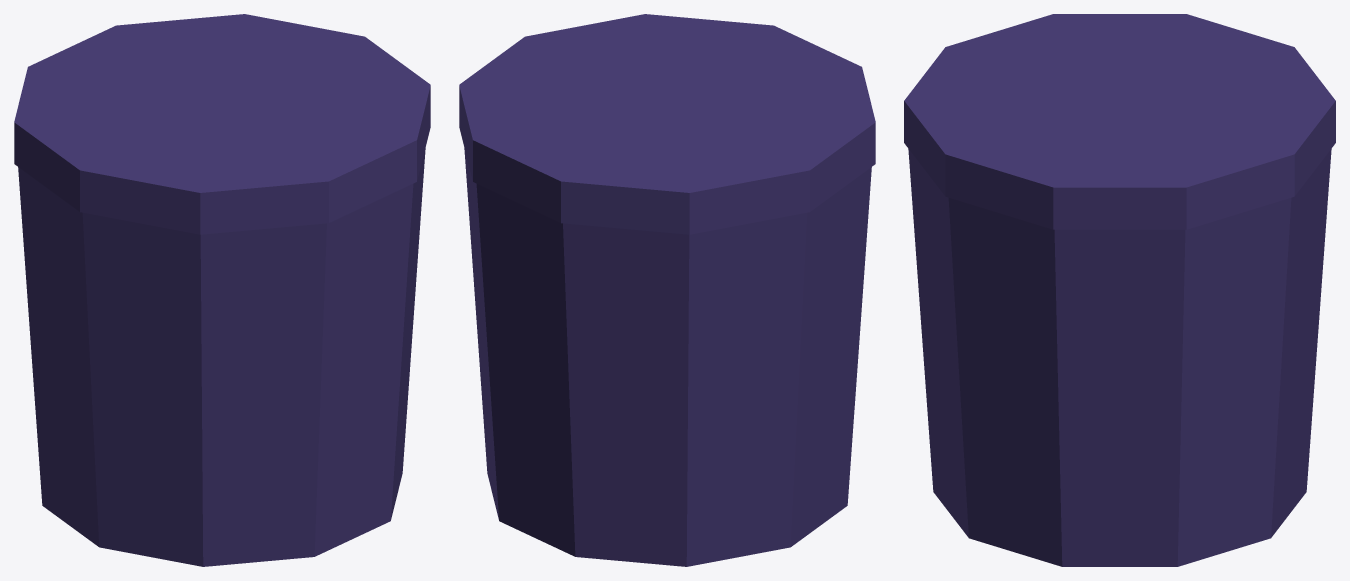
The model's file is trashcan-small.obj.
3 views of the same model, side by side, from view 1: azimuth 30°, elevation 25°; view 2: azimuth 150°, elevation 25°; view 3: azimuth 270°, elevation 25° (orthographic).
Parts seen in each view (by area): view 1: faceted-bin-body, open-bin-rim; view 2: faceted-bin-body, open-bin-rim; view 3: faceted-bin-body, open-bin-rim.
Boxes of the visible parts, left/top/right/bottom form: faceted-bin-body: left=18, top=148, right=425, bottom=566; open-bin-rim: left=14, top=14, right=430, bottom=234; faceted-bin-body: left=464, top=148, right=871, bottom=566; open-bin-rim: left=459, top=14, right=875, bottom=234; faceted-bin-body: left=908, top=149, right=1331, bottom=566; open-bin-rim: left=904, top=14, right=1335, bottom=229.
Size of the model in its own units: 0.7038 by 0.74 by 0.74.
